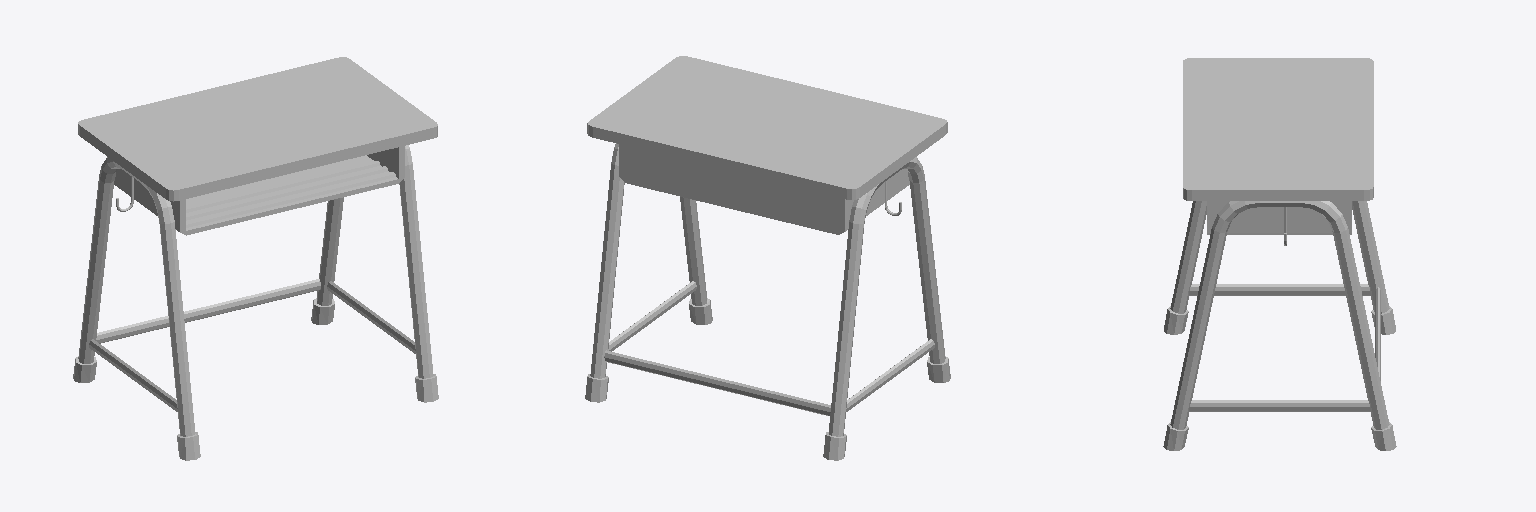
Rendered from chin.obj.
3 views of the same model, side by side, from view 1: azimuth 30°, elevation 25°; view 2: azimuth 150°, elevation 25°; view 3: azimuth 270°, elevation 25° (orthographic).
Visible parts, largest first — view 1: uploads_files_951191_Lowpoly_Desk; view 2: uploads_files_951191_Lowpoly_Desk; view 3: uploads_files_951191_Lowpoly_Desk.
Part boxes in pixels (x1,y1,x2,y2): uploads_files_951191_Lowpoly_Desk: (73, 57, 438, 460); uploads_files_951191_Lowpoly_Desk: (585, 56, 950, 460); uploads_files_951191_Lowpoly_Desk: (1163, 58, 1396, 450).
Bounding box in the file's own units: 111 × 102 × 81.53.